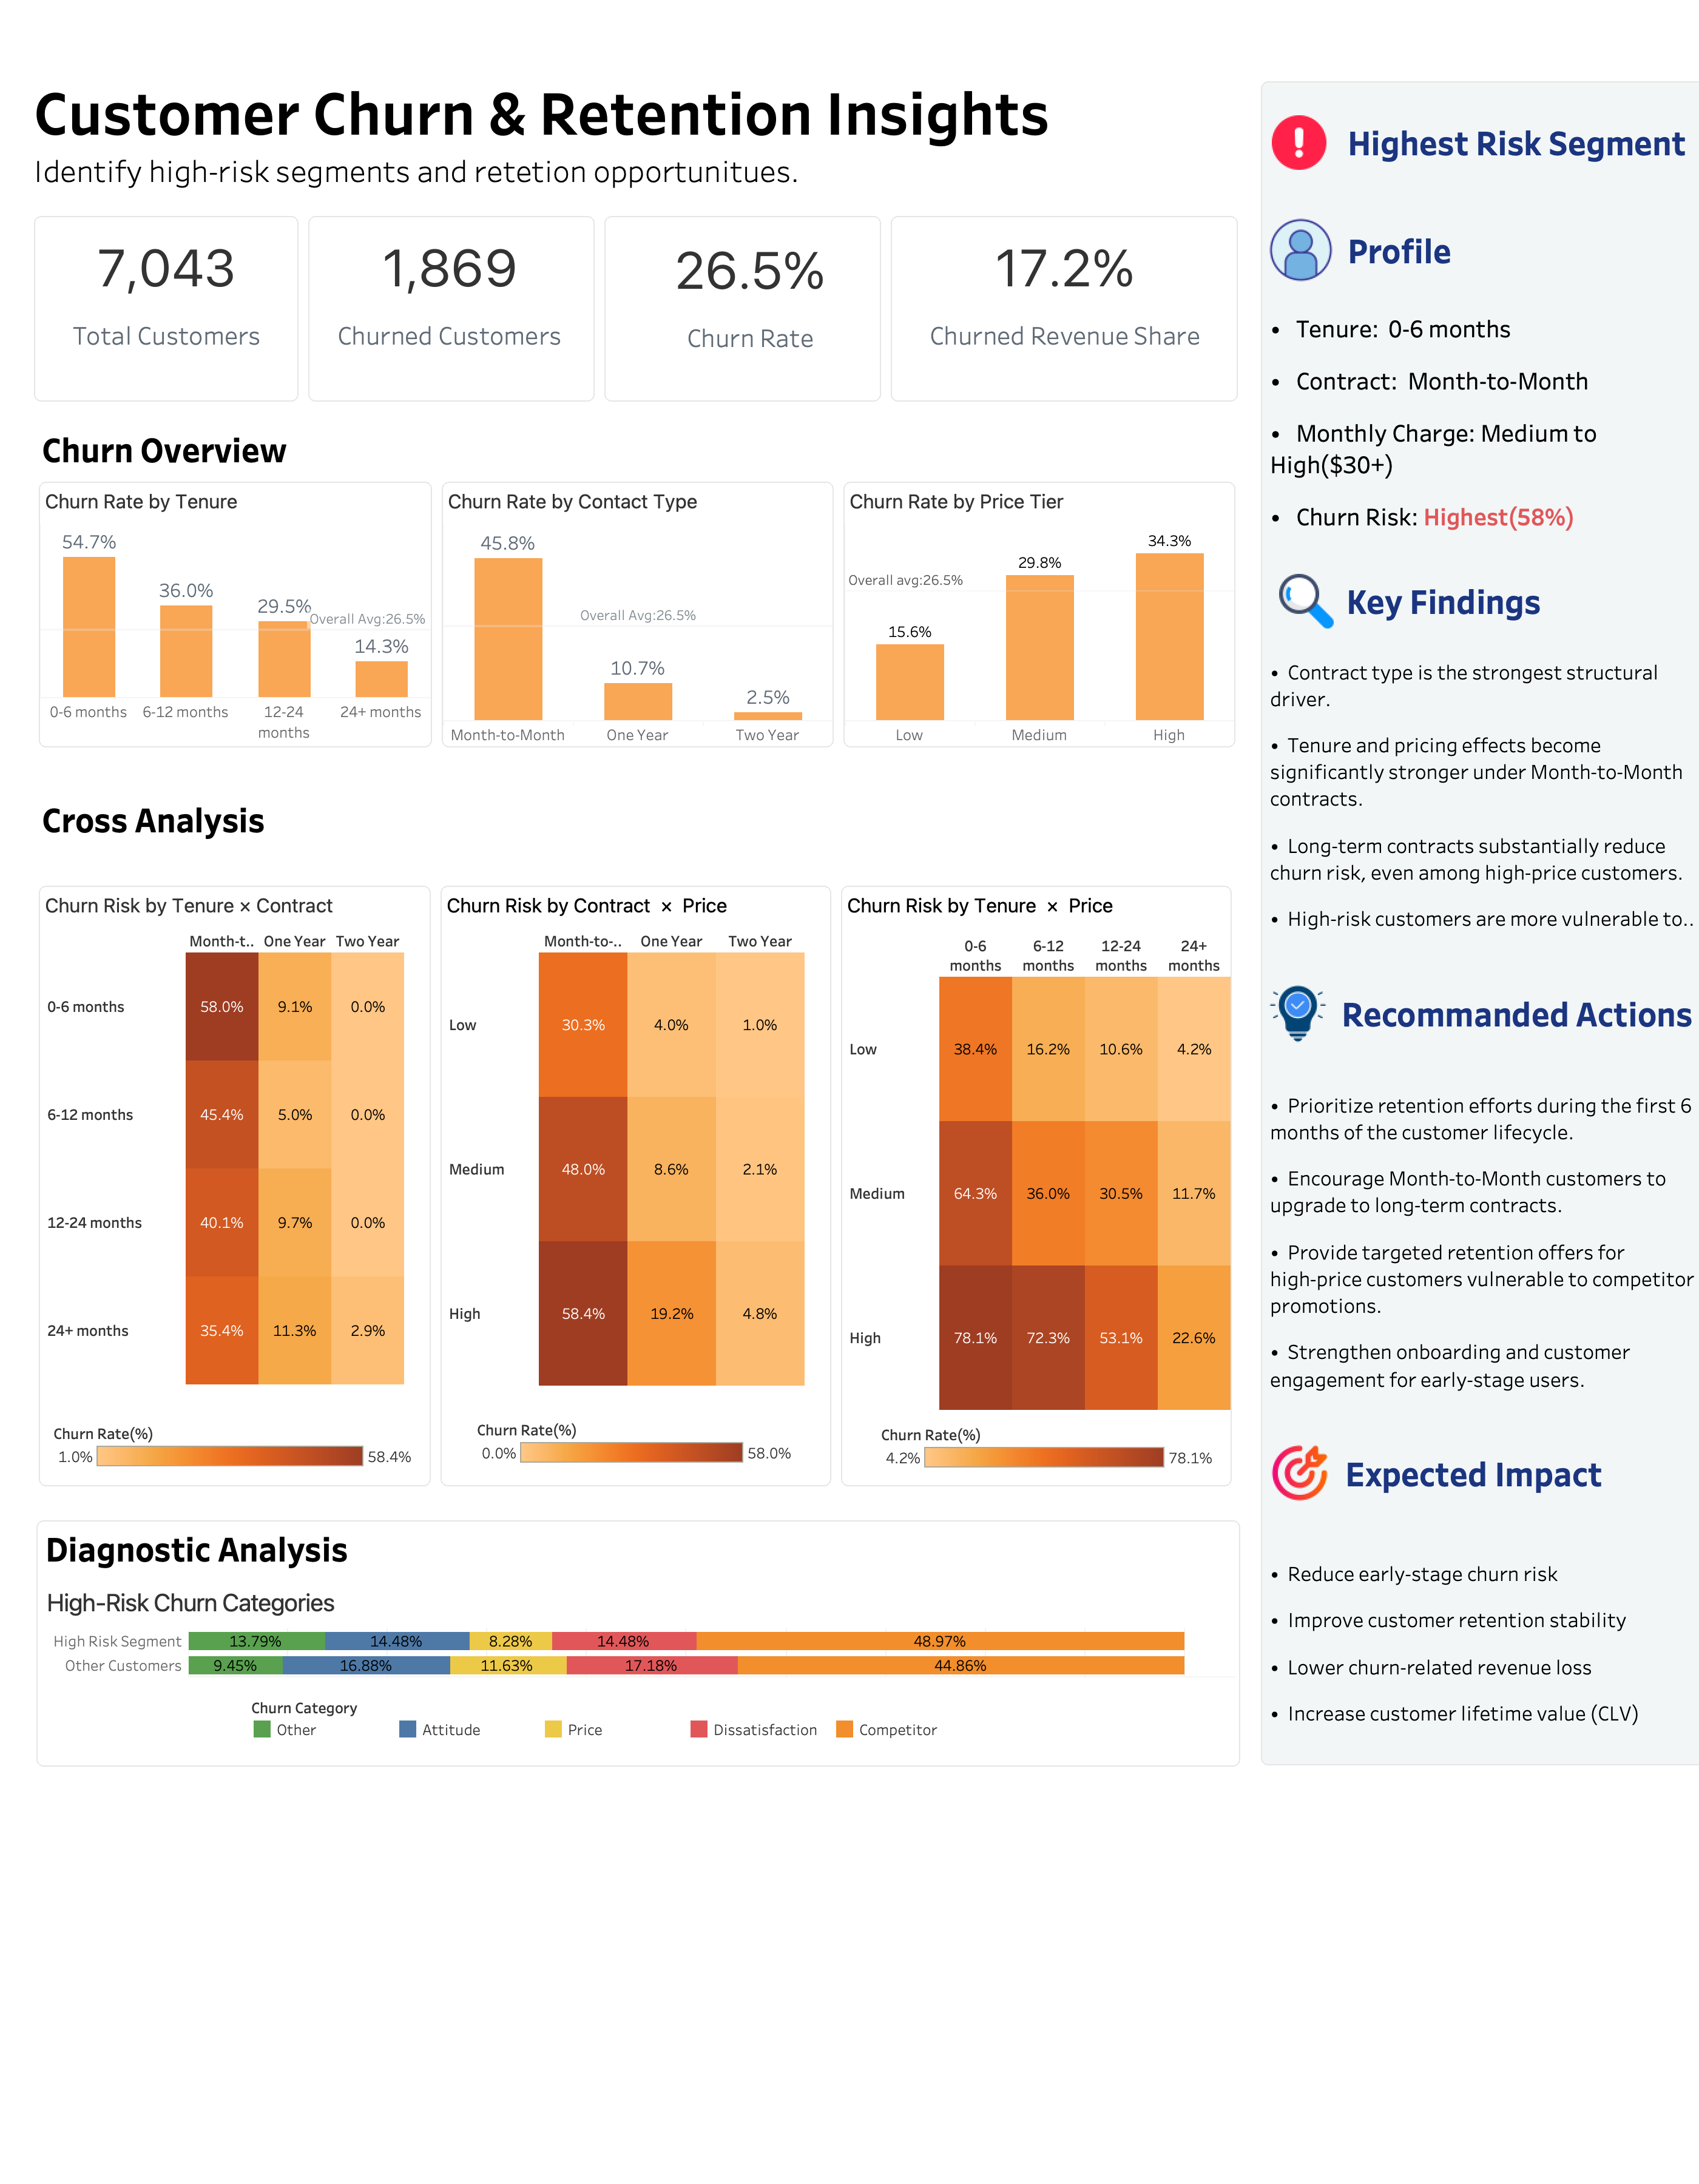

The dashboard page shown, as its layout file describes it:
{"tool":"tableau","page":{"name":"Churn Risk Structure","canvas":[1400,1800],"ordinal":1},"visuals":[{"type":"text","box":[21,43,1006,131]},{"type":"image","param":"/Users/yangpeiqi/Documents/My Tableau Repository/Shapes/Telecom/exclamation.png","box":[1040,68,64,99]},{"type":"text","box":[1104,68,299,99]},{"type":"image","param":"/Users/yangpeiqi/Documents/My Tableau Repository/Shapes/Telecom/user.png","box":[1040,167,64,78]},{"type":"text","box":[1104,167,299,78]},{"type":"worksheet","title":"KPI-Total Customers","mark":"Automatic","box":[24,174,226,161]},{"type":"worksheet","title":"KPI - Churned Customers","mark":"Automatic","box":[250,174,244,161]},{"type":"worksheet","title":"KPI - Churn Rate","mark":"Automatic","box":[494,174,236,161]},{"type":"worksheet","title":"KPI - Churn Revenue Share","mark":"Automatic","box":[730,174,294,161]},{"type":"text","box":[1040,245,363,211]},{"type":"text","box":[28,348,994,45]},{"type":"worksheet","title":"Churn Rate by Tenure","mark":"Bar","rows":["Calculation_5949458052624385"],"cols":["Calculation_5949458055331843"],"box":[28,393,332,227]},{"type":"worksheet","title":"Churn Rate by Contact Type","mark":"Automatic","rows":["Calculation_5949458052624385"],"cols":["Contract"],"box":[360,393,331,227]},{"type":"worksheet","title":"Churn Rate by Price Tier","mark":"Automatic","rows":["Calculation_6298966019035136"],"cols":["charge_group"],"box":[691,393,331,227]},{"type":"image","param":"/Users/yangpeiqi/Documents/My Tableau Repository/Shapes/Telecom/search.png","box":[1040,456,63,79]},{"type":"text","box":[1103,456,300,79]},{"type":"text","box":[1040,535,363,249]},{"type":"text","box":[28,625,991,101]},{"type":"worksheet","title":"Churn Risk by Tenure × Contract","mark":"Square","rows":["Calculation_5949458055331843"],"cols":["Contract"],"box":[28,726,331,503]},{"type":"worksheet","title":"Churn Risk by Contract  ×  Price","mark":"Square","rows":["charge_group"],"cols":["Contract"],"box":[359,726,330,503]},{"type":"worksheet","title":"Churn Risk by Tenure  ×  Price ","mark":"Square","rows":["charge_group"],"cols":["tenure_bucket"],"box":[689,726,330,503]},{"type":"image","param":"/Users/yangpeiqi/Documents/My Tableau Repository/Shapes/Telecom/inovation.png","box":[1040,784,59,103]},{"type":"text","box":[1099,784,304,103]},{"type":"text","box":[1040,887,363,282]},{"type":"legend","title":"Churn Risk by Tenure × Contract","param":"[federated.1y6v2w11rwrufv1c01erv0p0qupn].[usr:Calculation_5949458052624385:qk]","box":[393,1166,264,42]},{"type":"legend","title":"Churn Risk by Contract  ×  Price","param":"[federated.1w32boq0ytinhk1dbzptm0pk3mm9].[usr:Calculation_6298966019035136:qk]","box":[44,1169,300,43]},{"type":"image","param":"/Users/yangpeiqi/Documents/My Tableau Repository/Shapes/Telecom/trace.png","box":[1040,1169,62,90]},{"type":"text","box":[1102,1169,301,90]},{"type":"legend","title":"Churn Risk by Tenure  ×  Price ","param":"[federated.1w32boq0ytinhk1dbzptm0pk3mm9].[usr:Calculation_6298966019035136:qk]","box":[726,1170,278,50]},{"type":"text","box":[31,1254,990,45]},{"type":"text","box":[1040,1259,363,195]},{"type":"worksheet","title":"High-Risk Churn Categories","mark":"Bar","rows":["customer_segment"],"box":[31,1299,990,87]},{"type":"legend","title":"High-Risk Churn Categories","param":"[federated.0yt2xtd0bz4j3i15s8a8p14ly07n].[none:Churn_Category:nk]","box":[206,1397,644,46]}]}

Visuals, with their boxes in screenshot pixels (x1, y1, x2, y2), scaled from the page's 1400x1800 canvas onto the 1699x2184 screenshot:
text: {"left": 25, "top": 52, "right": 1246, "bottom": 211}
image: {"left": 1262, "top": 83, "right": 1340, "bottom": 203}
text: {"left": 1340, "top": 83, "right": 1698, "bottom": 203}
image: {"left": 1262, "top": 203, "right": 1340, "bottom": 297}
text: {"left": 1340, "top": 203, "right": 1698, "bottom": 297}
"KPI-Total Customers" worksheet: {"left": 29, "top": 211, "right": 303, "bottom": 406}
"KPI - Churned Customers" worksheet: {"left": 303, "top": 211, "right": 600, "bottom": 406}
"KPI - Churn Rate" worksheet: {"left": 600, "top": 211, "right": 886, "bottom": 406}
"KPI - Churn Revenue Share" worksheet: {"left": 886, "top": 211, "right": 1243, "bottom": 406}
text: {"left": 1262, "top": 297, "right": 1698, "bottom": 553}
text: {"left": 34, "top": 422, "right": 1240, "bottom": 477}
"Churn Rate by Tenure" worksheet (Bar marks): {"left": 34, "top": 477, "right": 437, "bottom": 752}
"Churn Rate by Contact Type" worksheet: {"left": 437, "top": 477, "right": 839, "bottom": 752}
"Churn Rate by Price Tier" worksheet: {"left": 839, "top": 477, "right": 1240, "bottom": 752}
image: {"left": 1262, "top": 553, "right": 1339, "bottom": 649}
text: {"left": 1339, "top": 553, "right": 1698, "bottom": 649}
text: {"left": 1262, "top": 649, "right": 1698, "bottom": 951}
text: {"left": 34, "top": 758, "right": 1237, "bottom": 881}
"Churn Risk by Tenure × Contract" worksheet (Square marks): {"left": 34, "top": 881, "right": 436, "bottom": 1491}
"Churn Risk by Contract  ×  Price" worksheet (Square marks): {"left": 436, "top": 881, "right": 836, "bottom": 1491}
"Churn Risk by Tenure  ×  Price " worksheet (Square marks): {"left": 836, "top": 881, "right": 1237, "bottom": 1491}
image: {"left": 1262, "top": 951, "right": 1334, "bottom": 1076}
text: {"left": 1334, "top": 951, "right": 1698, "bottom": 1076}
text: {"left": 1262, "top": 1076, "right": 1698, "bottom": 1418}
"Churn Risk by Tenure × Contract" legend: {"left": 477, "top": 1415, "right": 797, "bottom": 1466}
"Churn Risk by Contract  ×  Price" legend: {"left": 53, "top": 1418, "right": 417, "bottom": 1471}
image: {"left": 1262, "top": 1418, "right": 1337, "bottom": 1528}
text: {"left": 1337, "top": 1418, "right": 1698, "bottom": 1528}
"Churn Risk by Tenure  ×  Price " legend: {"left": 881, "top": 1420, "right": 1218, "bottom": 1480}
text: {"left": 38, "top": 1522, "right": 1239, "bottom": 1576}
text: {"left": 1262, "top": 1528, "right": 1698, "bottom": 1764}
"High-Risk Churn Categories" worksheet (Bar marks): {"left": 38, "top": 1576, "right": 1239, "bottom": 1682}
"High-Risk Churn Categories" legend: {"left": 250, "top": 1695, "right": 1032, "bottom": 1751}
